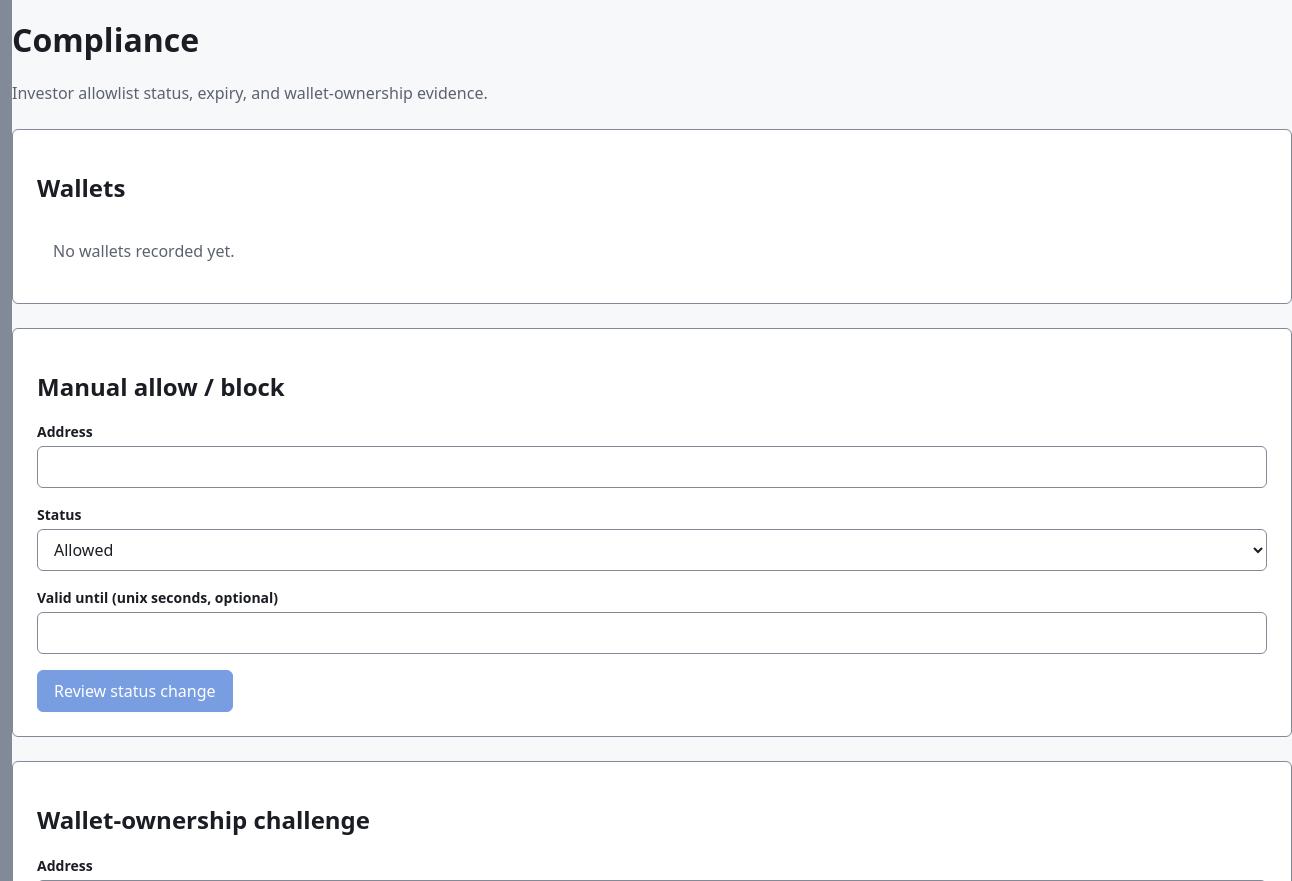
it: Compliance manual allow / block › disables review until an address is entered
Check: the button "Review status change" is disabled, box [37,670,233,712]
Type "0x1234567890123456789012345678901234567890" into the field labelled "Address" below "Manual allow / block". click: (652, 468)
box: [37,446,1267,488]
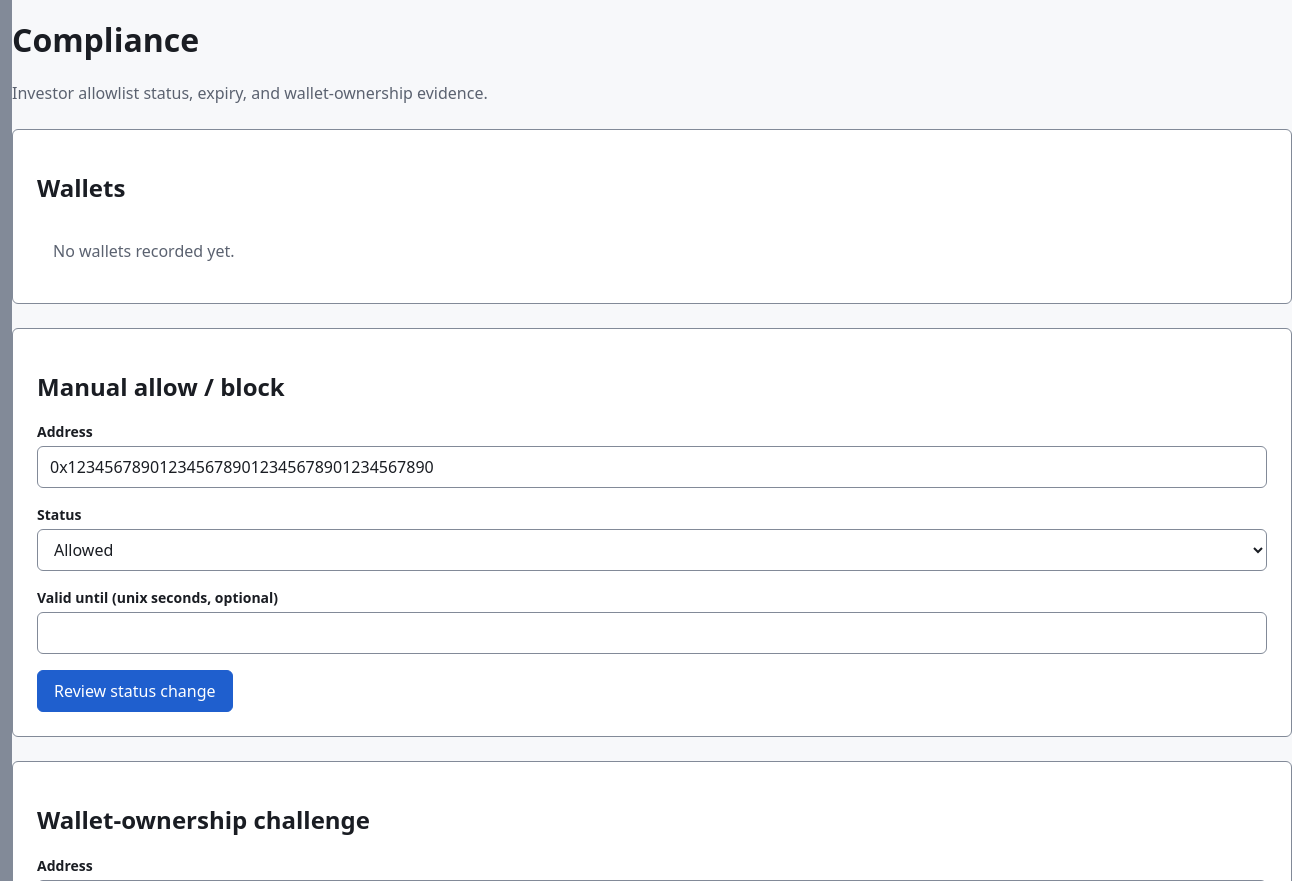
Check: the button "Review status change" is enabled, box [37,670,233,712]
